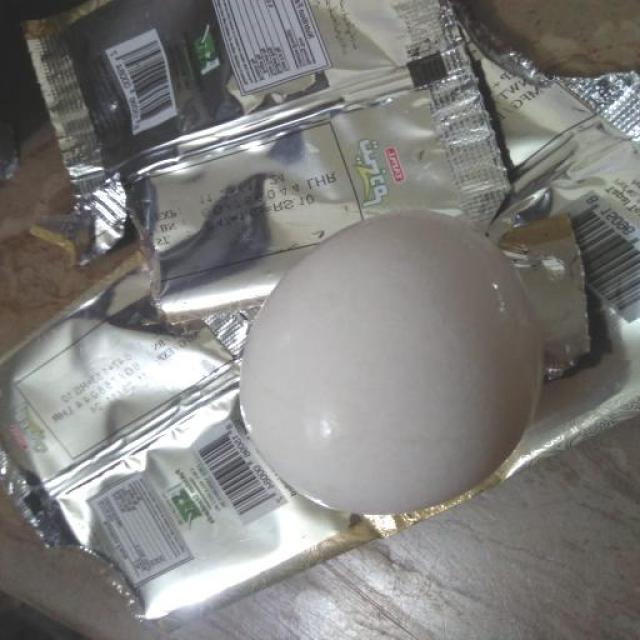telur: (240, 201, 555, 525)
